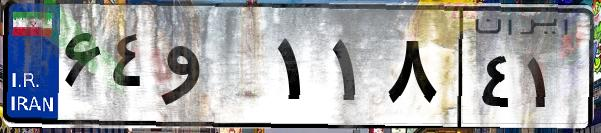1: (270, 28, 330, 110), (330, 28, 385, 110), (525, 38, 570, 115)
4: (475, 38, 525, 113), (110, 28, 158, 98)
6: (57, 26, 110, 100)
8: (385, 28, 445, 110)
و: (158, 20, 270, 120)
